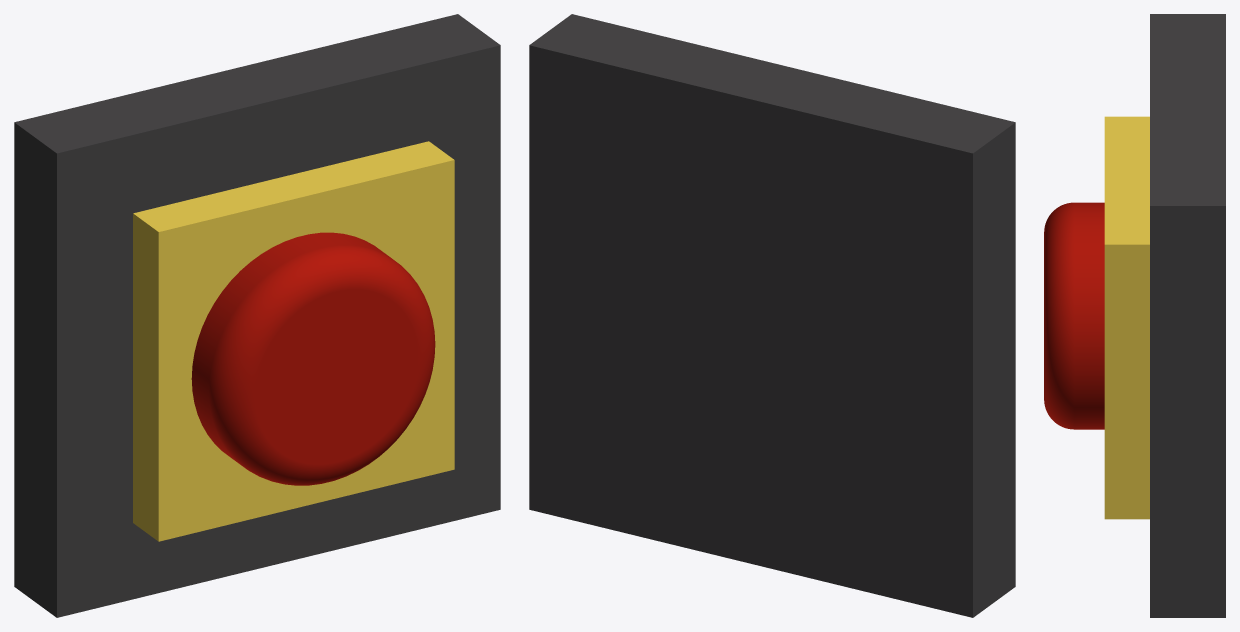
Rendered from boton2color.fbx.
3 renders of one model, left to right at view 1: azimuth 30°, elevation 25°; view 2: azimuth 150°, elevation 25°; view 3: azimuth 270°, elevation 25°, orthographic. The views are drawn at different scales.
Visible parts, largest first — view 1: mesh8.003, mesh3.003, mesh0.003, mesh1.003, mesh10.001, mesh9.001, mesh5.003, mesh4.003, mesh2.003; view 2: mesh13.001, mesh10.001, mesh9.001; view 3: mesh12.001, mesh9.001, mesh7.003, mesh2.003, mesh1.003, mesh4.003.
Boxes of the visible parts, left/top/right/bottom form: mesh8.003: left=57, top=45, right=500, bottom=617; mesh3.003: left=158, top=160, right=454, bottom=541; mesh0.003: left=255, top=289, right=418, bottom=463; mesh1.003: left=209, top=245, right=435, bottom=485; mesh10.001: left=14, top=122, right=56, bottom=617; mesh9.001: left=14, top=14, right=500, bottom=153; mesh5.003: left=133, top=213, right=158, bottom=541; mesh4.003: left=133, top=141, right=453, bottom=231; mesh2.003: left=191, top=232, right=390, bottom=463; mesh13.001: left=529, top=45, right=972, bottom=617; mesh10.001: left=973, top=122, right=1015, bottom=617; mesh9.001: left=529, top=14, right=1015, bottom=153; mesh12.001: left=1150, top=206, right=1225, bottom=617; mesh9.001: left=1150, top=14, right=1225, bottom=205; mesh7.003: left=1104, top=244, right=1149, bottom=519; mesh2.003: left=1074, top=202, right=1104, bottom=429; mesh1.003: left=1044, top=202, right=1074, bottom=429; mesh4.003: left=1104, top=116, right=1149, bottom=244.
Bounding box in the file's own units: 15 × 15 × 6.
